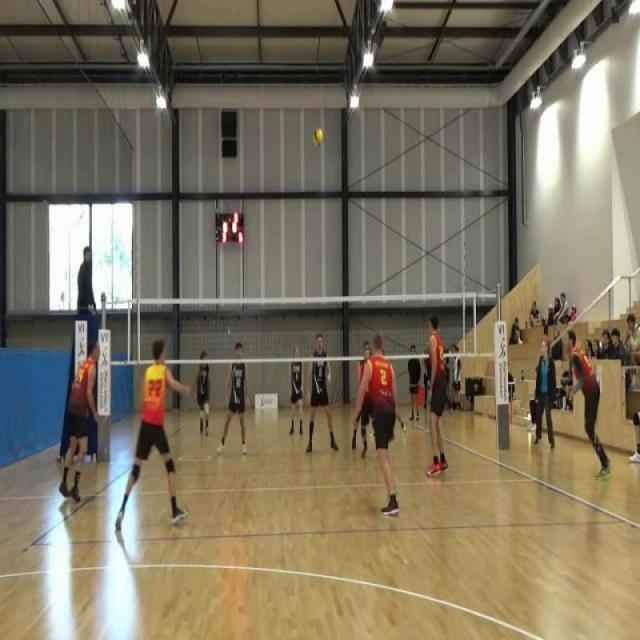volleyball: (312, 126, 324, 150)
